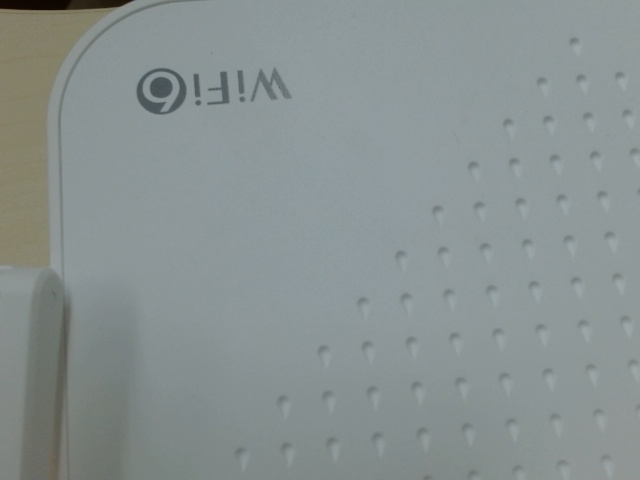AK_ZTEWIFI6: (125, 57, 297, 118)
